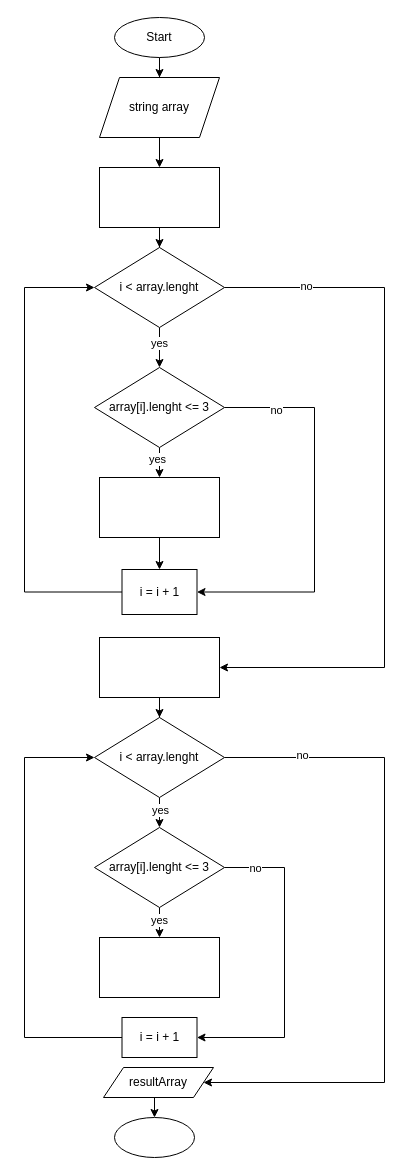
The diagram is 410 pixels wide and 1175 high, and some of its shapes have lost their labels. The shapes that lost their labels are listed below. From the top down, each one's box as (x1, y1, x2, y2) in pixels, then its label:
(98, 166, 220, 228): i = 0 count = 0
(98, 476, 220, 538): count = count + 1
(98, 636, 220, 698): create resultArray[count] j = 0 i = 0
(98, 936, 220, 998): resultArray[j] = array[i] j = j + 1
(114, 1116, 194, 1158): end
